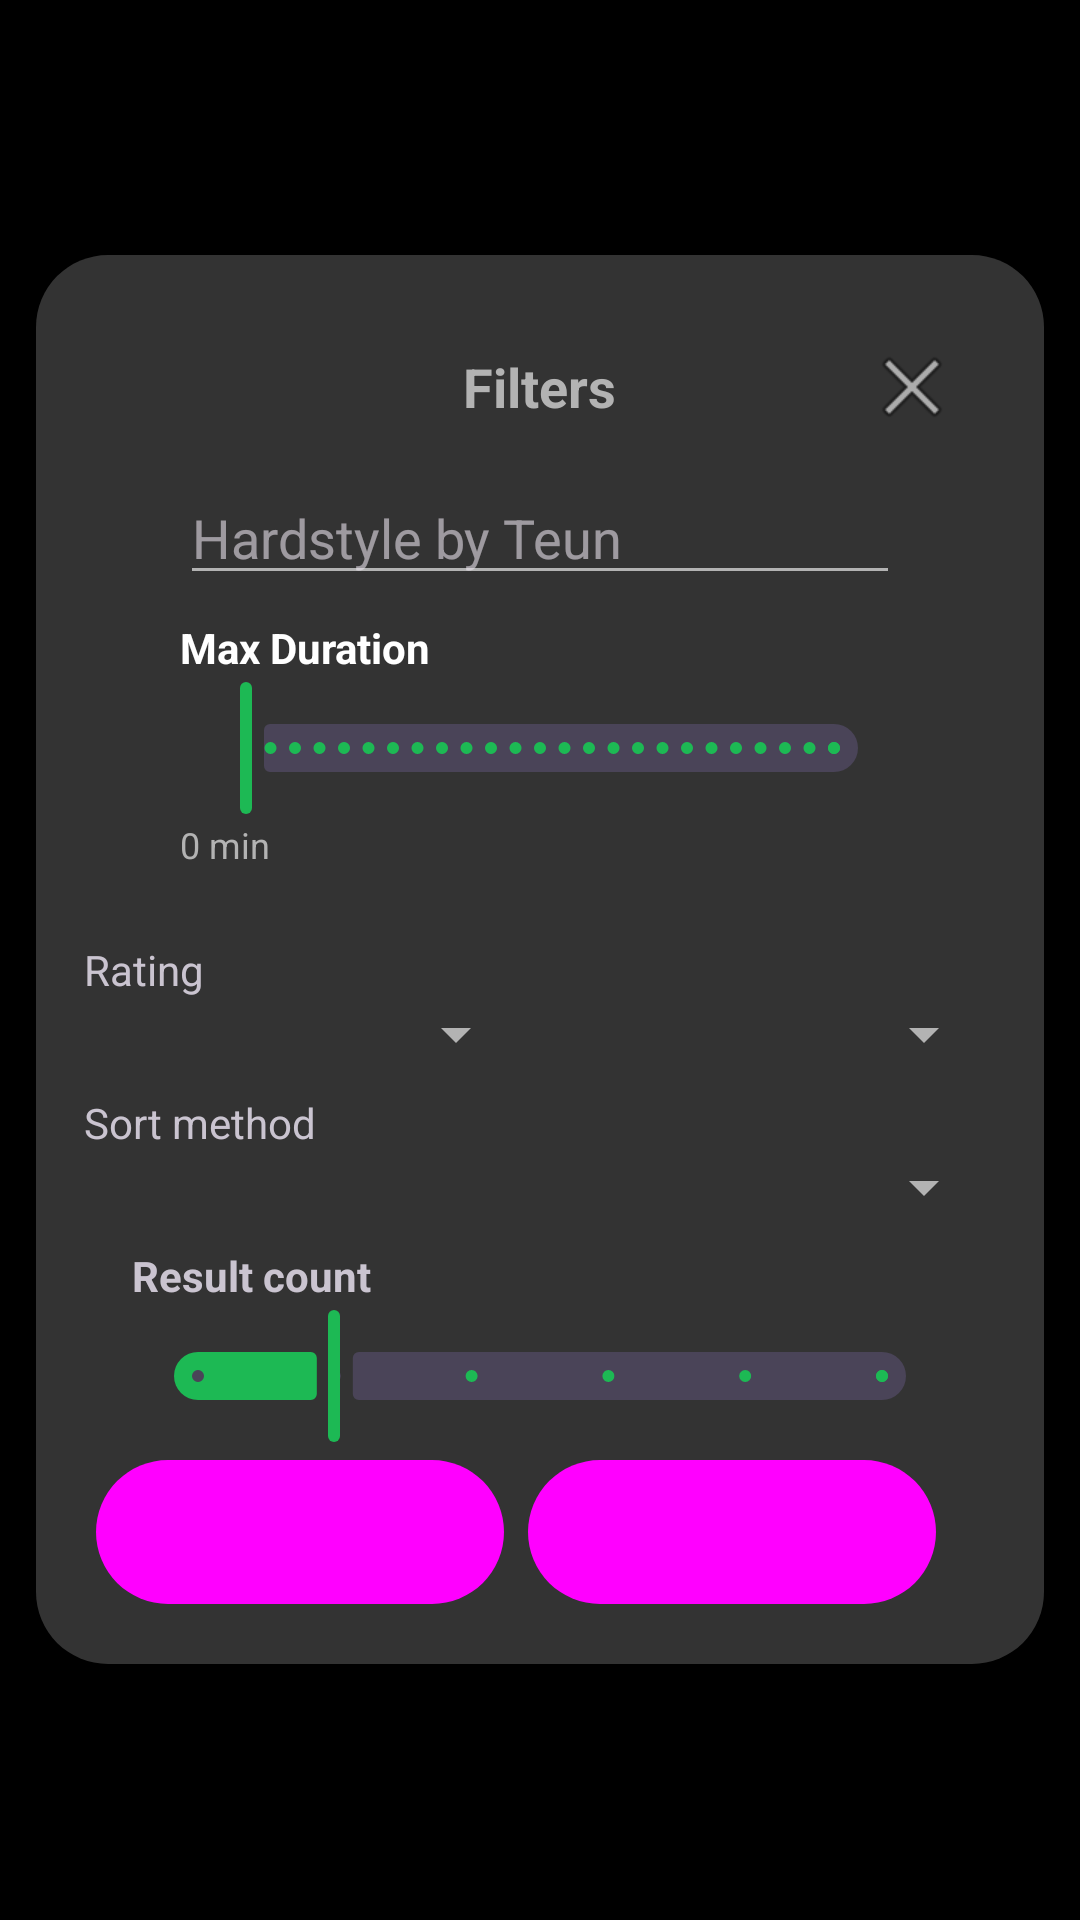

Where icons sit on this 1080x1920 app screen, as (x1, y1, x2, y2):
close: (885, 360, 939, 414)
